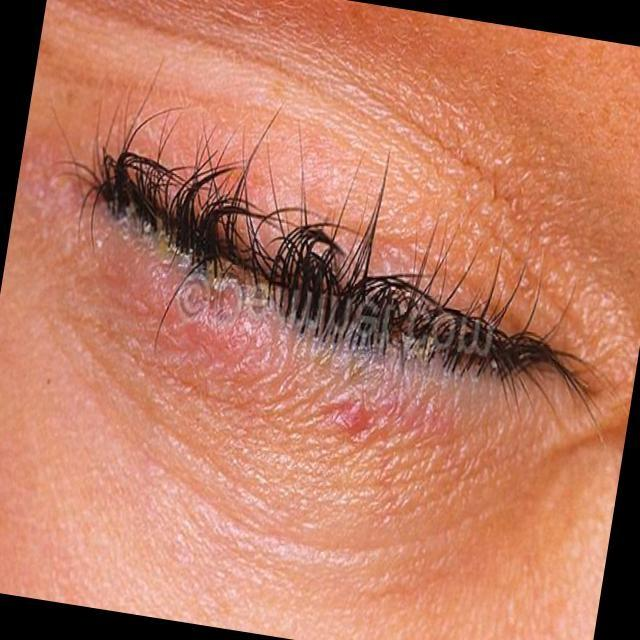Eczema: (19, 125, 624, 474)
